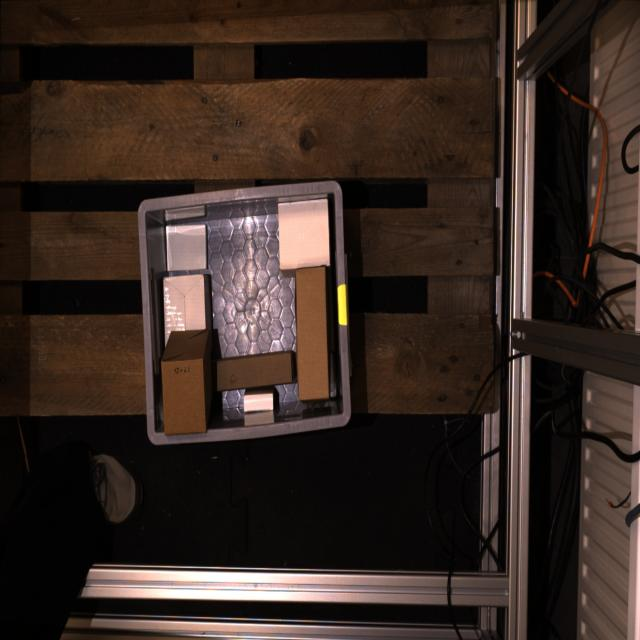CardboardBox: (161, 330, 212, 435), (296, 266, 330, 400), (278, 199, 329, 269), (216, 351, 294, 391), (163, 275, 209, 342), (166, 225, 207, 270), (244, 390, 273, 413)
